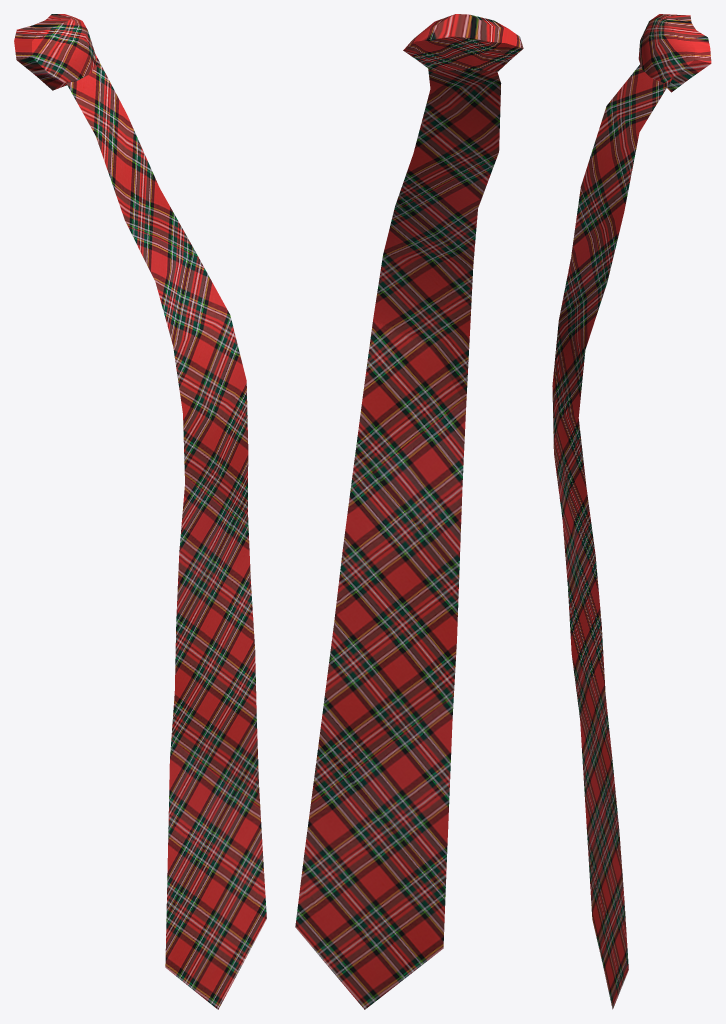
Rendered from Pose-4_Tie-1.fbx.
The picture shows the model from 3 angles, left to right: view 1: azimuth 30°, elevation 25°; view 2: azimuth 150°, elevation 25°; view 3: azimuth 270°, elevation 25°; orthographic projection. The views are drawn at different scales.
Parts seen in each view (by area): view 1: Pose-4_Tie-1; view 2: Pose-4_Tie-1; view 3: Pose-4_Tie-1.
Part boxes in pixels (x1,y1,x2,y2): Pose-4_Tie-1: (14, 14, 266, 1009); Pose-4_Tie-1: (295, 14, 523, 1009); Pose-4_Tie-1: (552, 14, 711, 1009).
Bounding box in the file's own units: 13.01 × 53.04 × 8.22.
